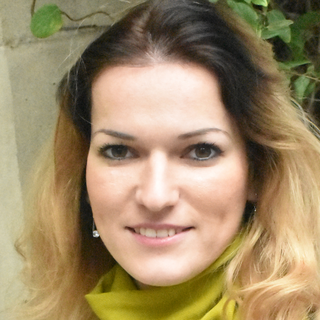eye: (93, 140, 148, 166), (174, 140, 228, 164)
